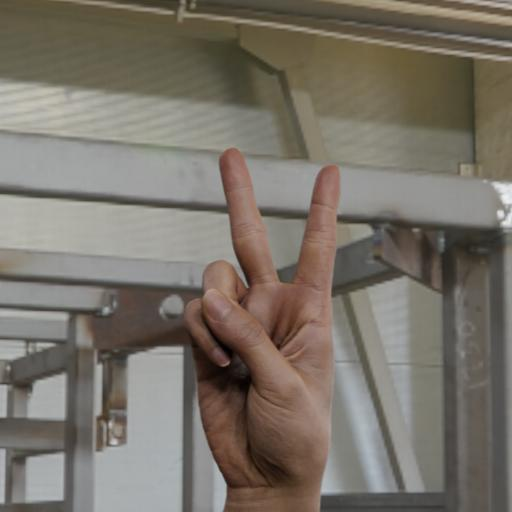V: (175, 142, 417, 512)
